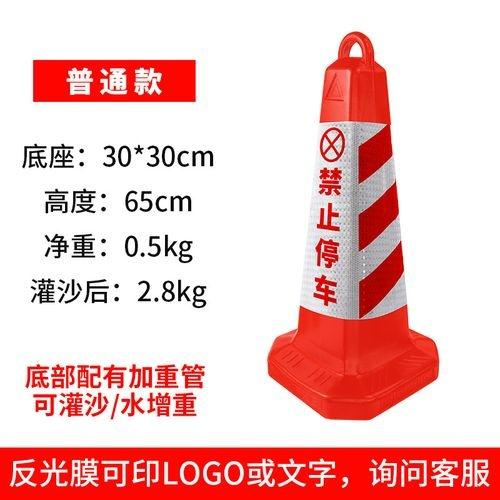cone_barrel: (266, 28, 441, 416)
